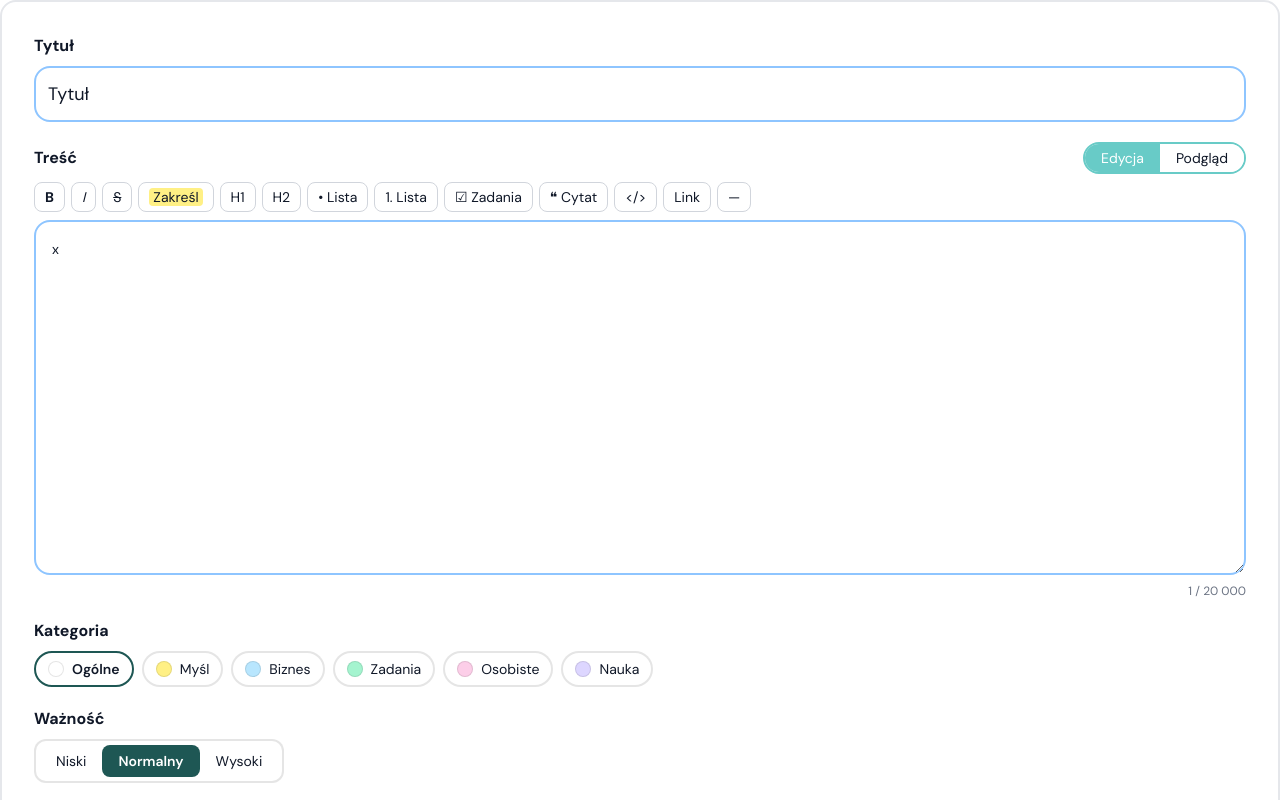
Test case: NoteEditor — pasek formatowania › przycisk Przekreślenie
Click the button titled "Przekreślenie" at [117, 197], box [102,182,132,212]
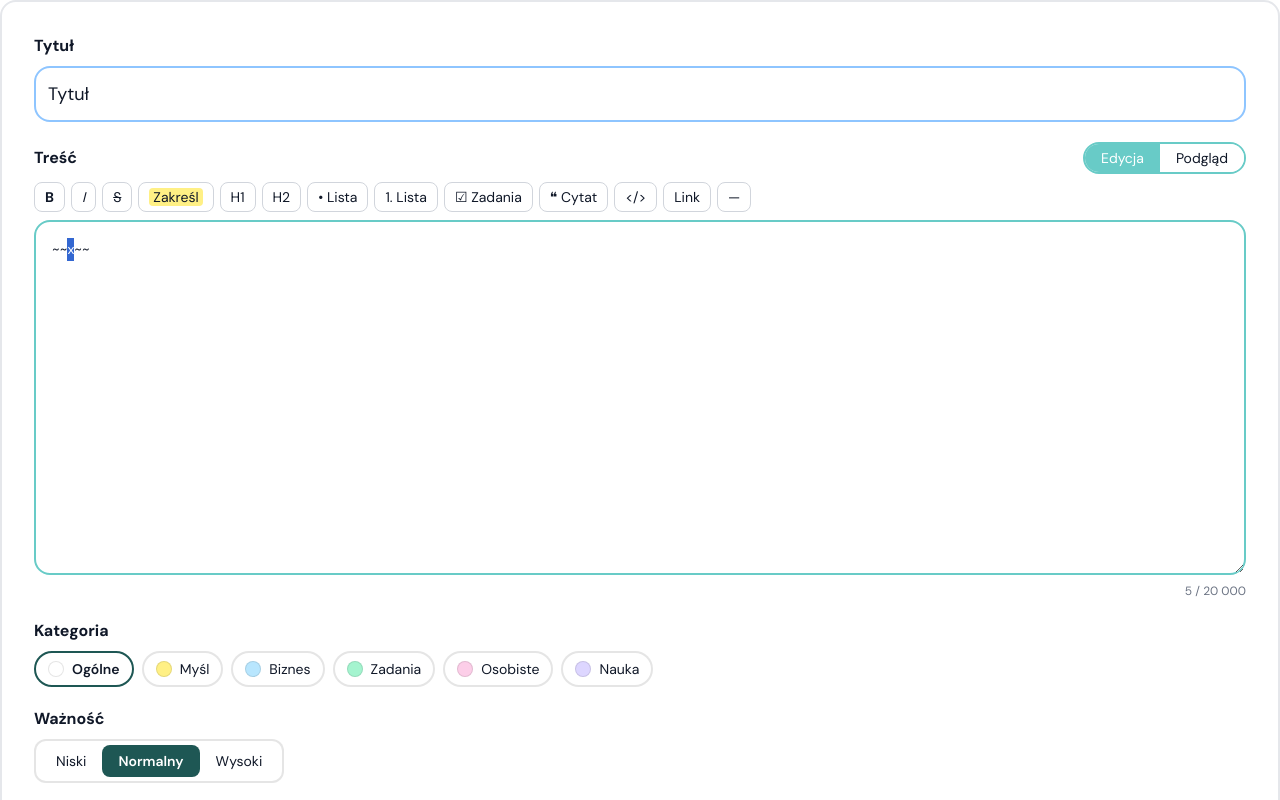
Expected: the text box with placeholder "Zacznij pisać" holds "~~x~~", [34,220,1246,574]
